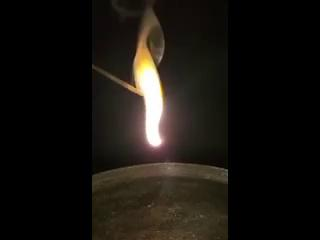Fire: (133, 28, 164, 143)
